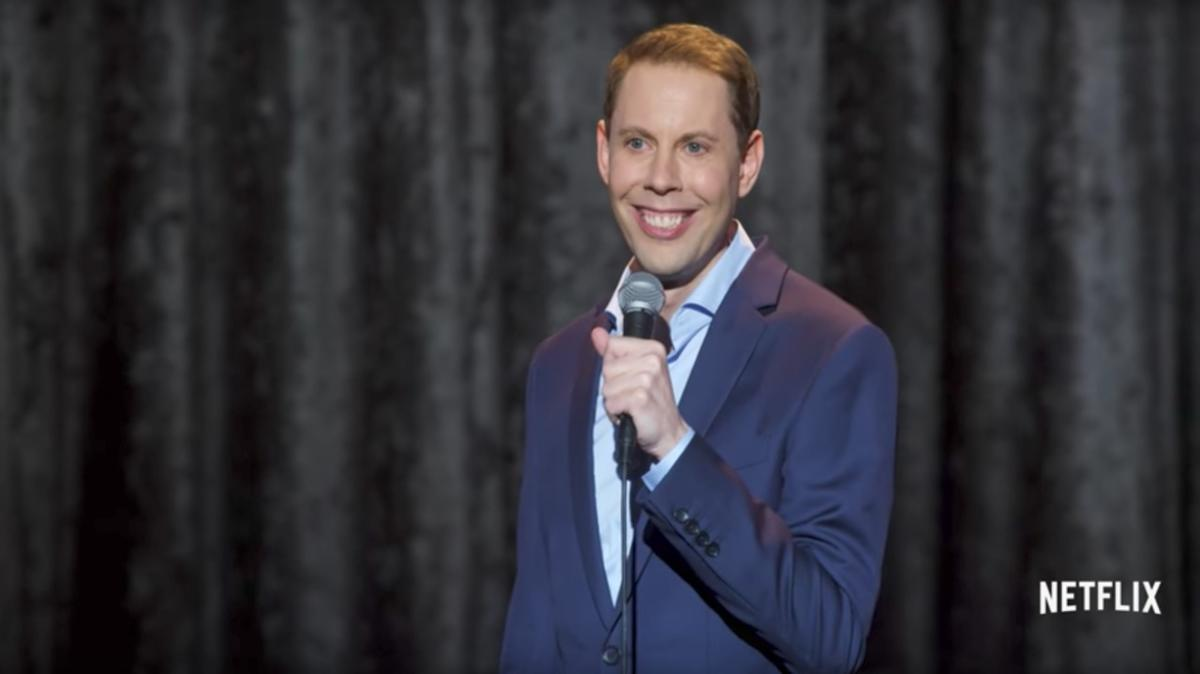shoot: (627, 201, 702, 239)
